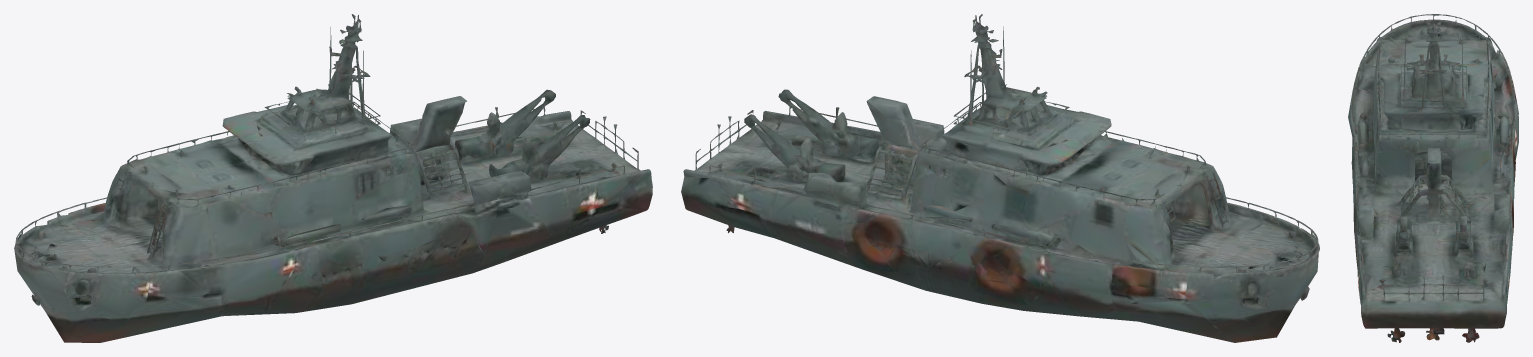
Rendered from landingcraft.glb.
3 views of the same model, side by side, from view 1: azimuth 30°, elevation 25°; view 2: azimuth 150°, elevation 25°; view 3: azimuth 270°, elevation 25° (orthographic). The views are drawn at different scales.
Bounding box in the file's own units: 1.89 × 0.8072 × 0.5415.
1 material, 1 textured.
